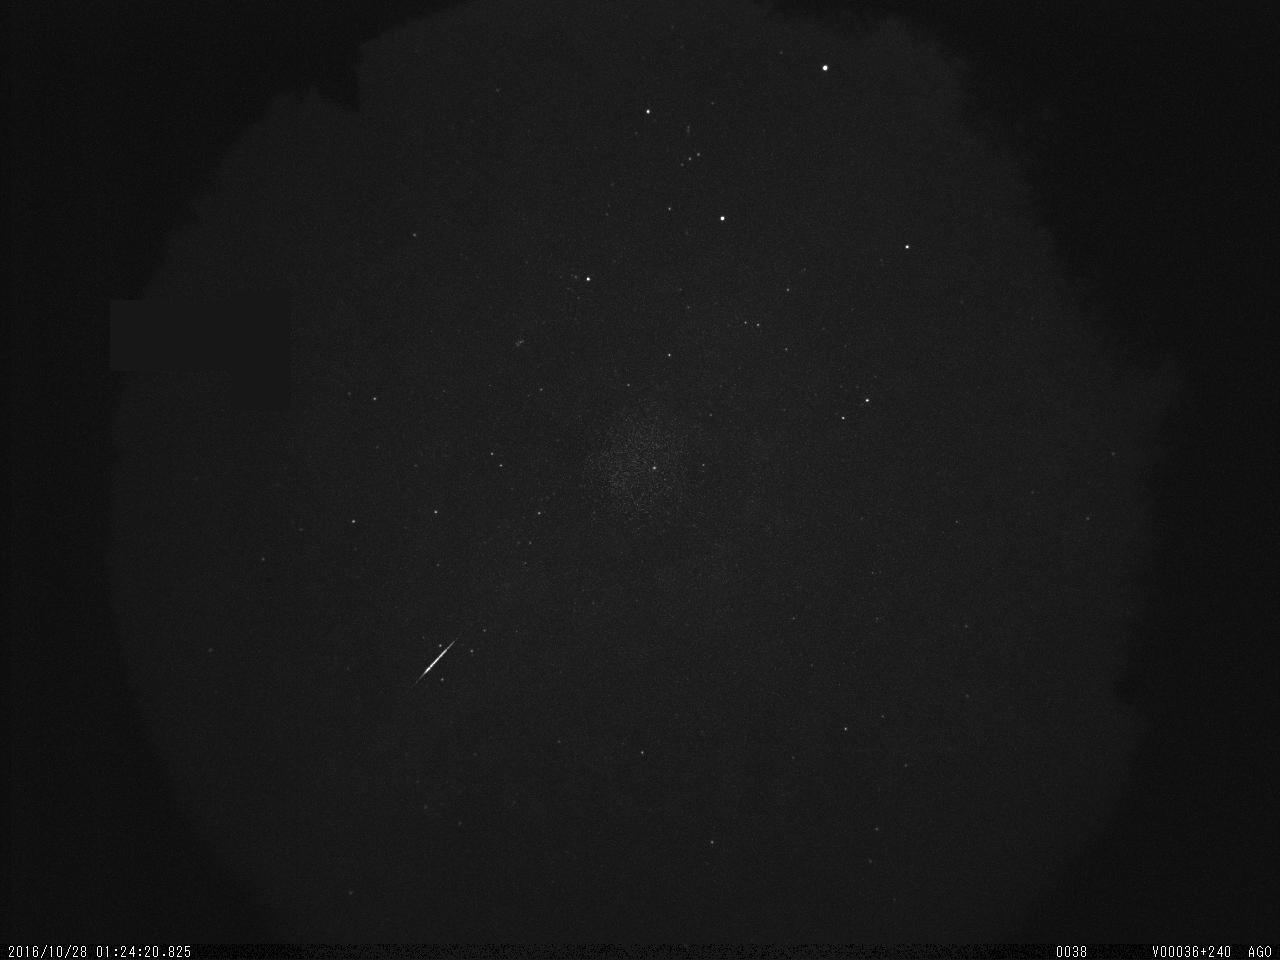meteor: (405, 629, 478, 685)
